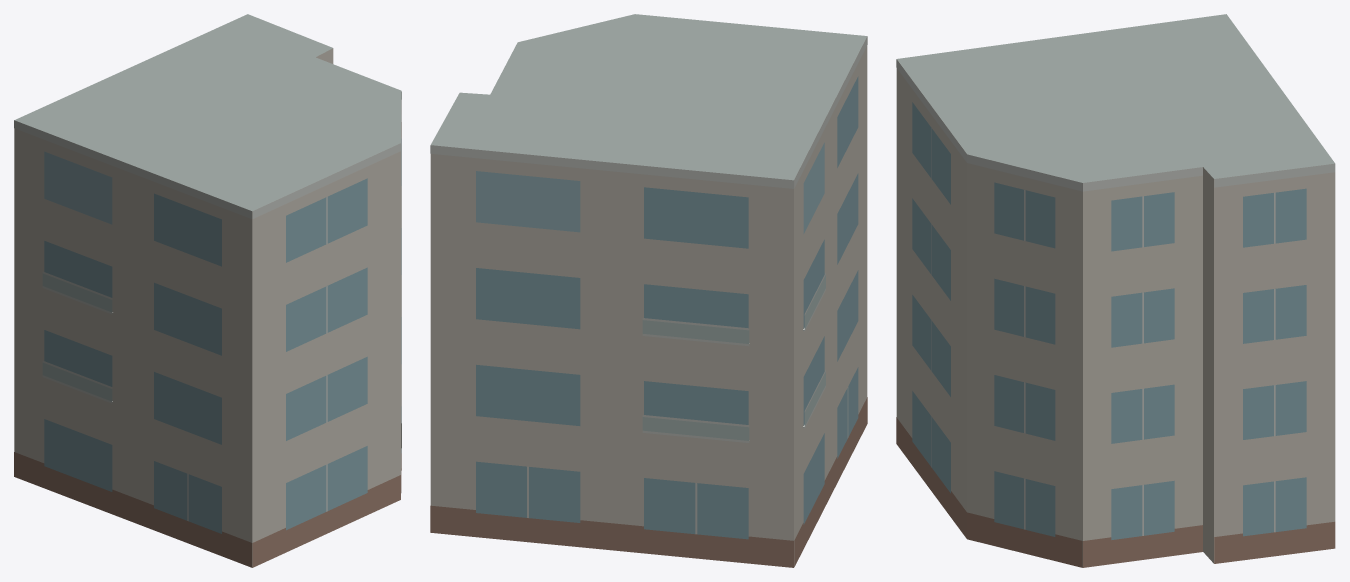
Rendered from survey-upis-32745749.glb.
The picture shows the model from 3 angles, left to right: view 1: azimuth 30°, elevation 25°; view 2: azimuth 150°, elevation 25°; view 3: azimuth 270°, elevation 25°; orthographic projection. The views are drawn at different scales.
Parts seen in each view (by area): view 1: survey-upis-32745749.tmp; view 2: survey-upis-32745749.tmp; view 3: survey-upis-32745749.tmp.
Part boxes in pixels (box(x1,y1,x2,y2)): survey-upis-32745749.tmp: box(14, 14, 401, 567); survey-upis-32745749.tmp: box(430, 14, 867, 567); survey-upis-32745749.tmp: box(896, 14, 1335, 567).
Bounding box in the file's own units: 10.27 × 10.9 × 11.28.
